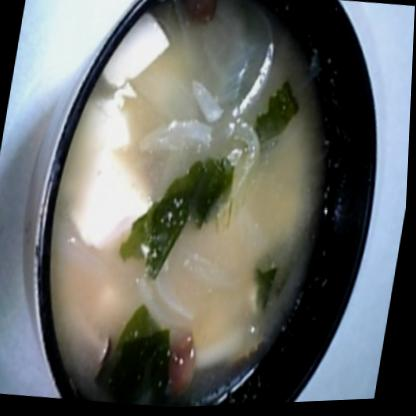miso soup: (13, 0, 376, 414)
